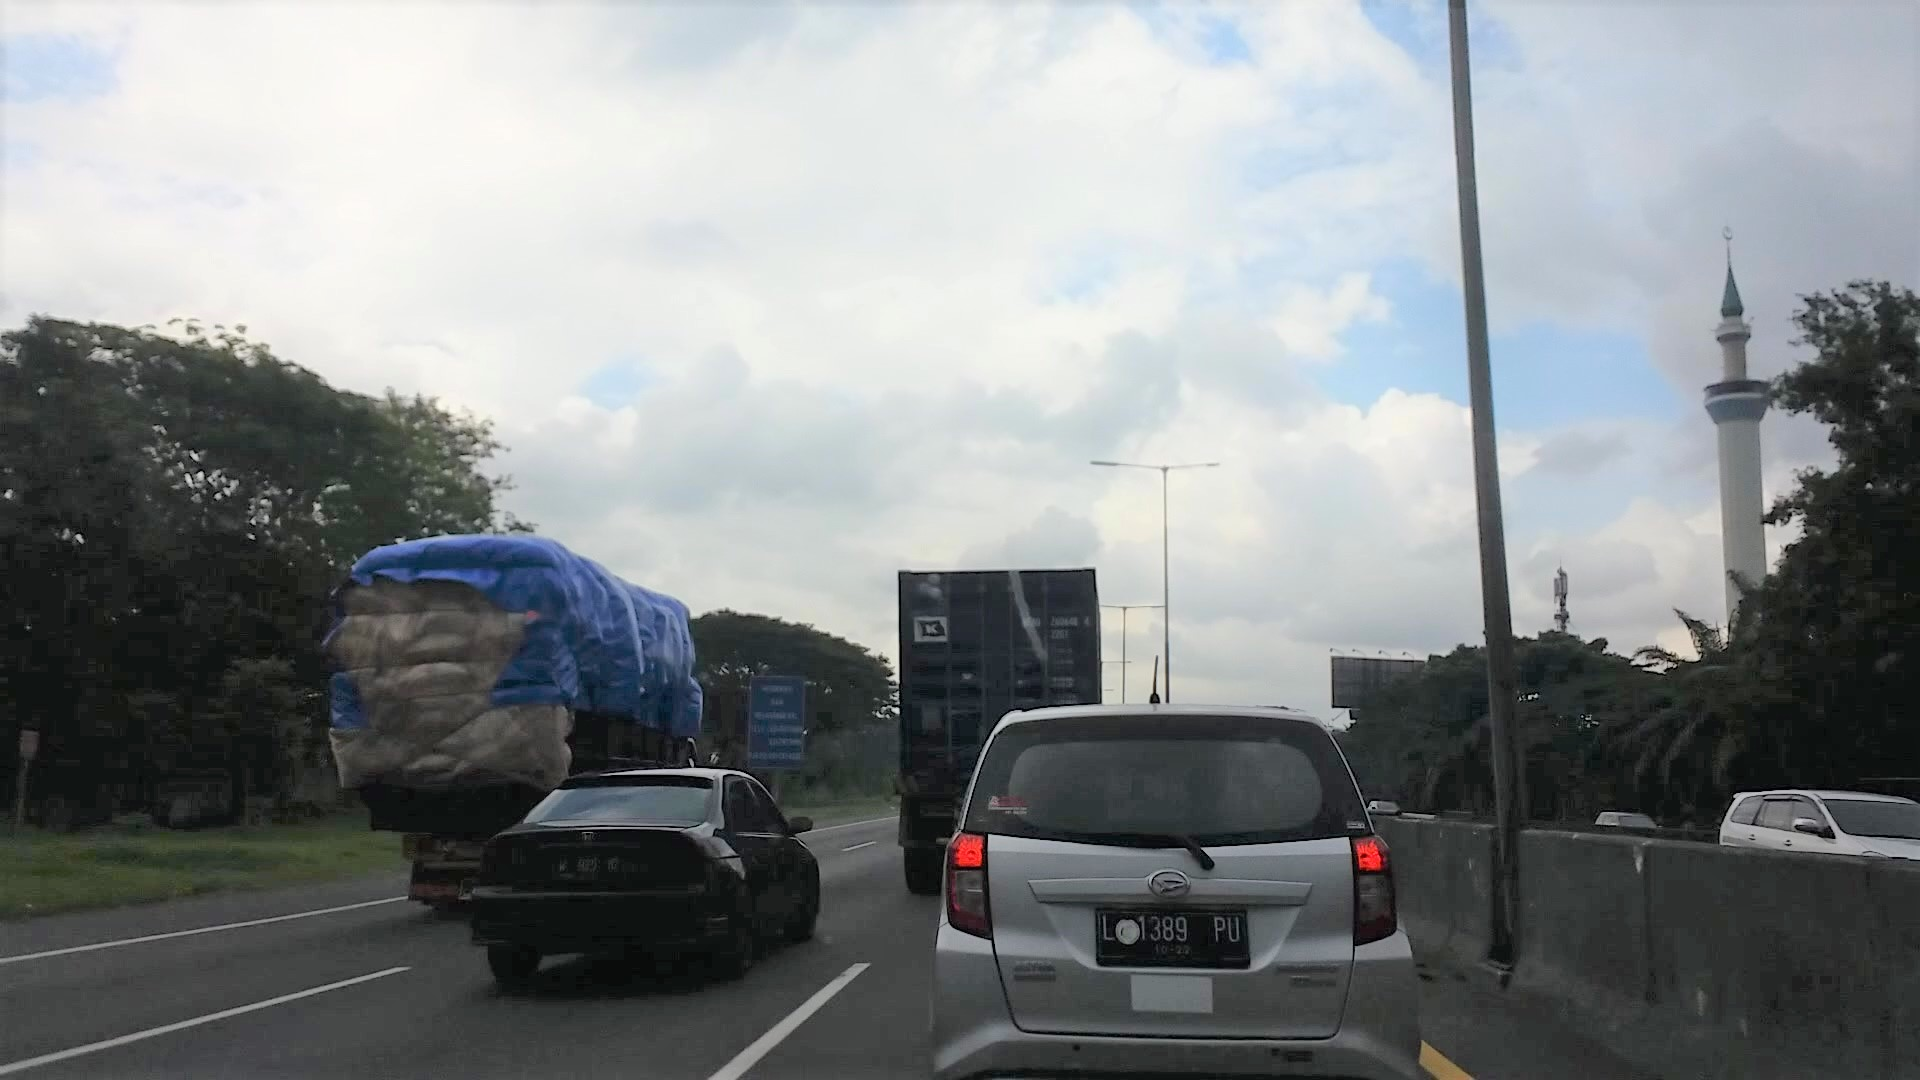plate_positive: (1095, 905, 1250, 969)
